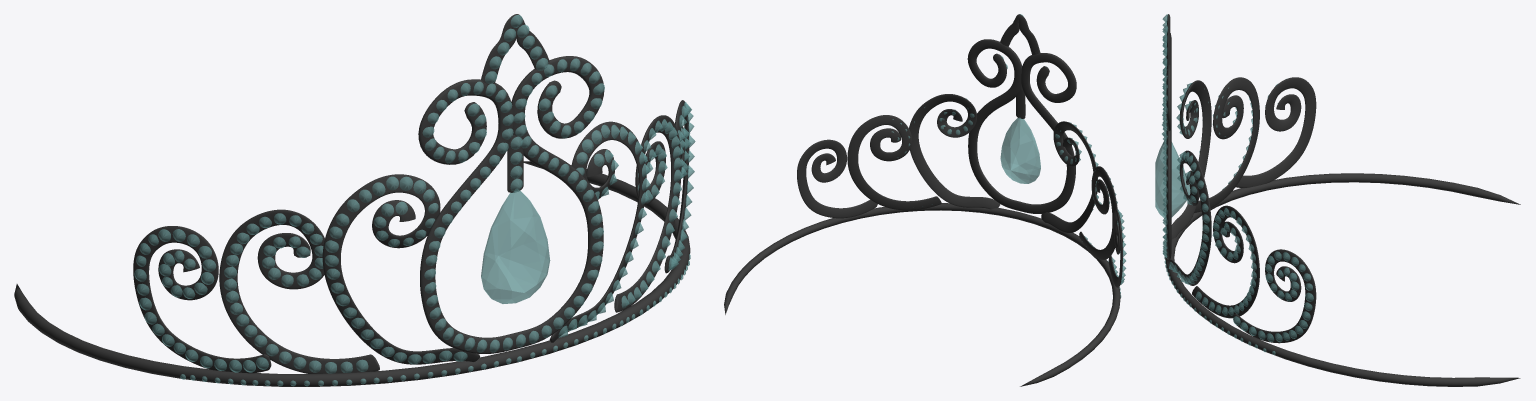
File: Diamond_Crown_Kiara.fbx
The picture shows the model from 3 angles, left to right: view 1: azimuth 30°, elevation 25°; view 2: azimuth 150°, elevation 25°; view 3: azimuth 270°, elevation 25°; orthographic projection. The views are drawn at different scales.
Visible parts, largest first — view 1: curve2, polySurface257, polySurface444, curve9, NoName1; view 2: curve9, polySurface257, polySurface444, curve2, NoName1; view 3: curve9, curve2, polySurface444, polySurface257, NoName1.
Boxes of the visible parts, x1,y1,x2,y2 form: curve2: (133, 174, 479, 373); polySurface257: (418, 14, 604, 353); polySurface444: (14, 161, 690, 386); curve9: (549, 100, 695, 342); NoName1: (481, 189, 550, 303); curve9: (797, 94, 1000, 218); polySurface257: (967, 14, 1076, 213); polySurface444: (724, 203, 1121, 386); curve2: (1041, 121, 1126, 287); NoName1: (1000, 117, 1040, 183); curve9: (1167, 150, 1316, 343); curve2: (1171, 77, 1316, 239); polySurface444: (1164, 173, 1520, 386); polySurface257: (1162, 14, 1171, 259); NoName1: (1155, 139, 1190, 218).
Bounding box in the file's own units: 15.7 × 9.98 × 11.96.
